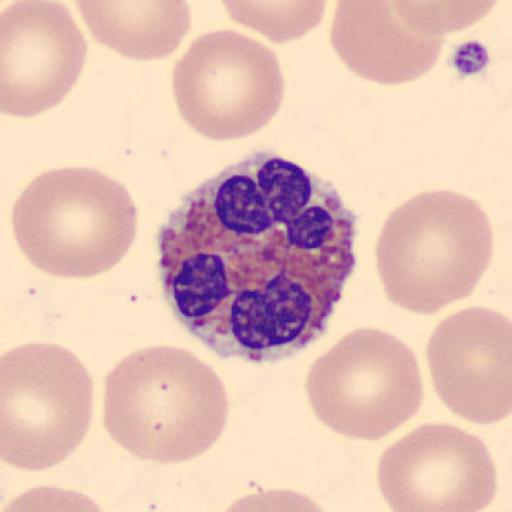RBC: (373, 186, 495, 318), (101, 343, 230, 465), (10, 165, 141, 281), (304, 324, 426, 443), (170, 27, 287, 142), (2, 340, 95, 474), (376, 420, 499, 512), (425, 305, 512, 426), (2, 0, 89, 120), (328, 0, 446, 87), (73, 0, 193, 63), (218, 0, 330, 44), (388, 0, 502, 37), (0, 482, 118, 512), (211, 486, 344, 512)
WBC: (158, 155, 361, 363)
